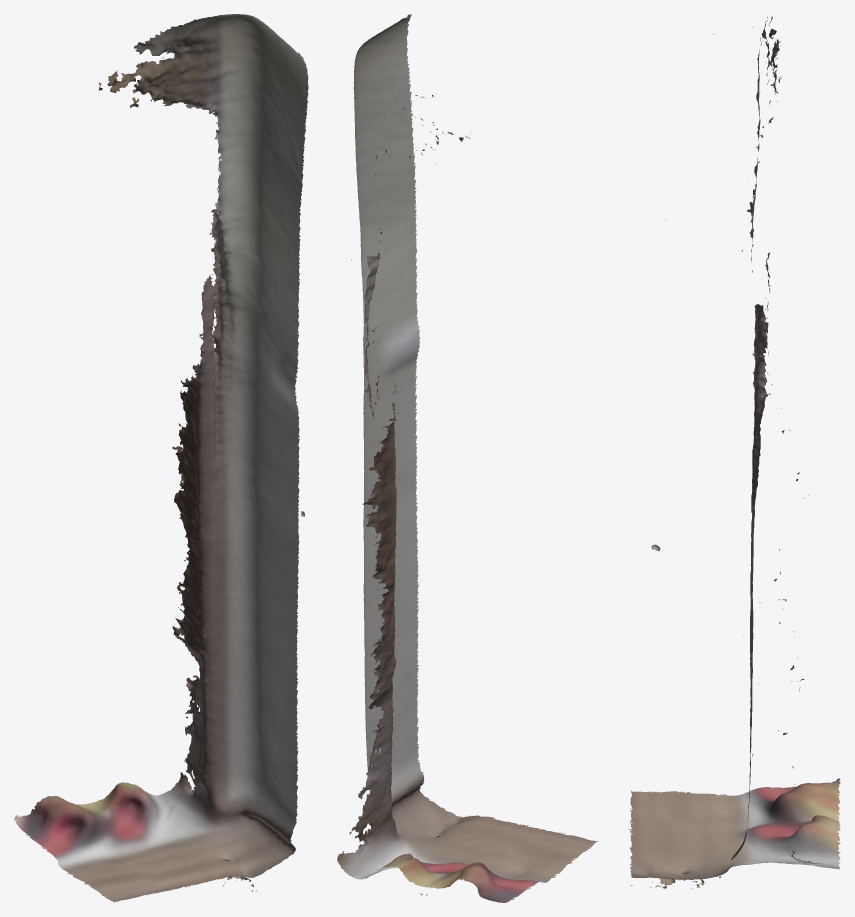
File: apartment-full-118-2918e08712a8.glb
The picture shows the model from 3 angles, left to right: view 1: azimuth 30°, elevation 25°; view 2: azimuth 150°, elevation 25°; view 3: azimuth 270°, elevation 25°; orthographic projection. The views are drawn at different scales.
Bounding box in the file's own units: 0.655 × 2.56 × 0.564.
